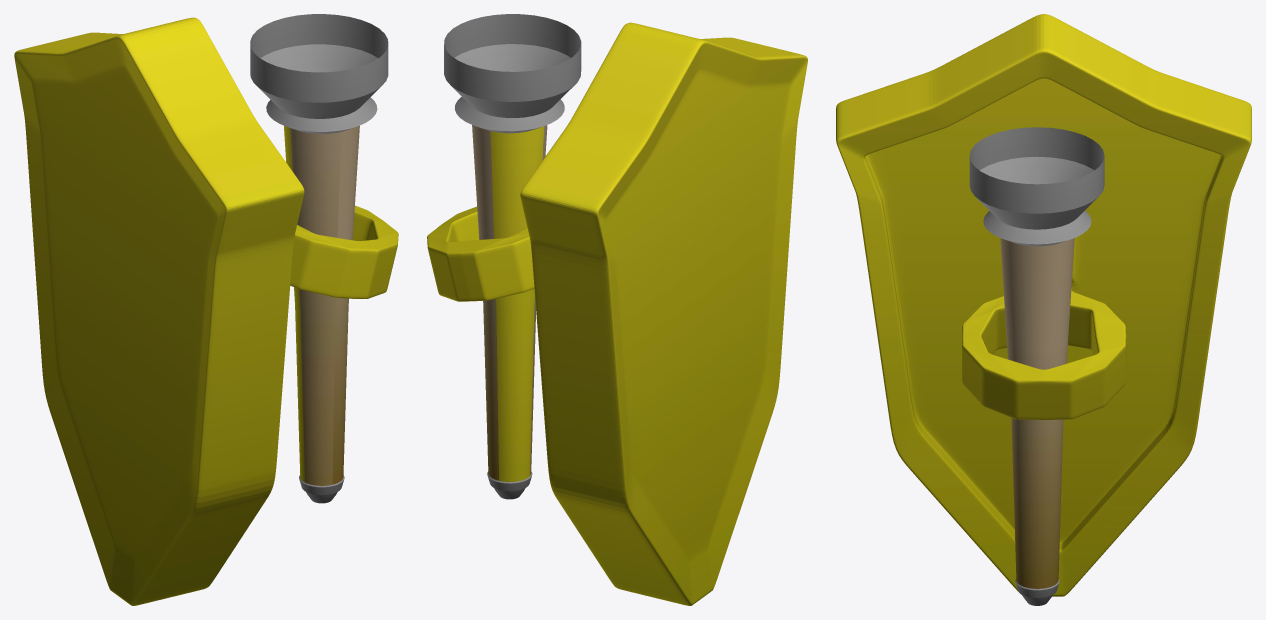
Rendered from Luz.fbx.
3 views of the same model, side by side, from view 1: azimuth 30°, elevation 25°; view 2: azimuth 150°, elevation 25°; view 3: azimuth 270°, elevation 25° (orthographic). The views are drawn at different scales.
Visible parts, largest first — view 1: Cube, Cylinder; view 2: Cube, Cylinder; view 3: Cube, Cylinder.
Boxes of the visible parts, box(x1,y1,x2,y2) form: Cube: box(14, 17, 398, 605); Cylinder: box(250, 14, 388, 503); Cube: box(427, 22, 807, 605); Cylinder: box(444, 14, 581, 499); Cube: box(836, 14, 1251, 596); Cylinder: box(969, 127, 1104, 605).
Size of the model in its own units: 105 by 213 by 146.
